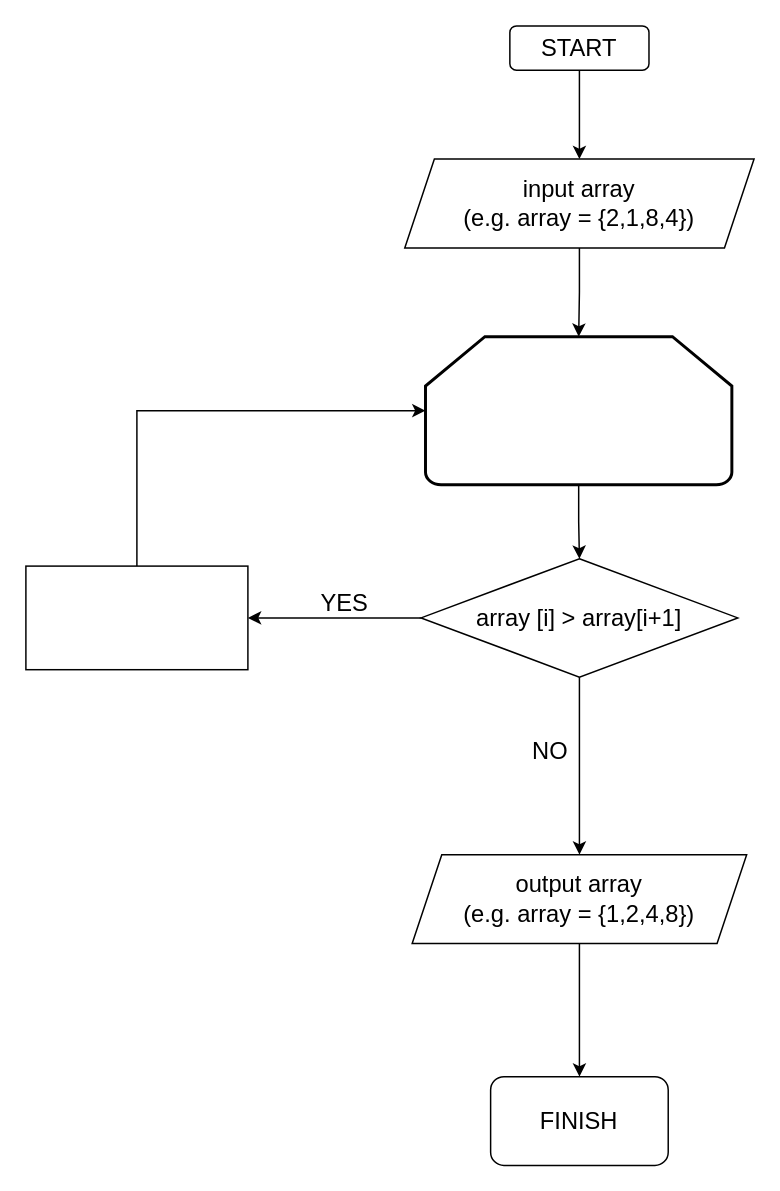
Image size: 780x1191. Some labels were removed from this diagram. The box of each missing label's shape, as (x1, y1, x2, y2) in pixels:
loop i (array element index) from 0 to (array length - 2): (423, 334, 733, 485)
tmp = array[i+1] array[i+1] = array[i] array[i] = tmp: (24, 565, 248, 670)
